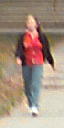person: (11, 14, 49, 119)
